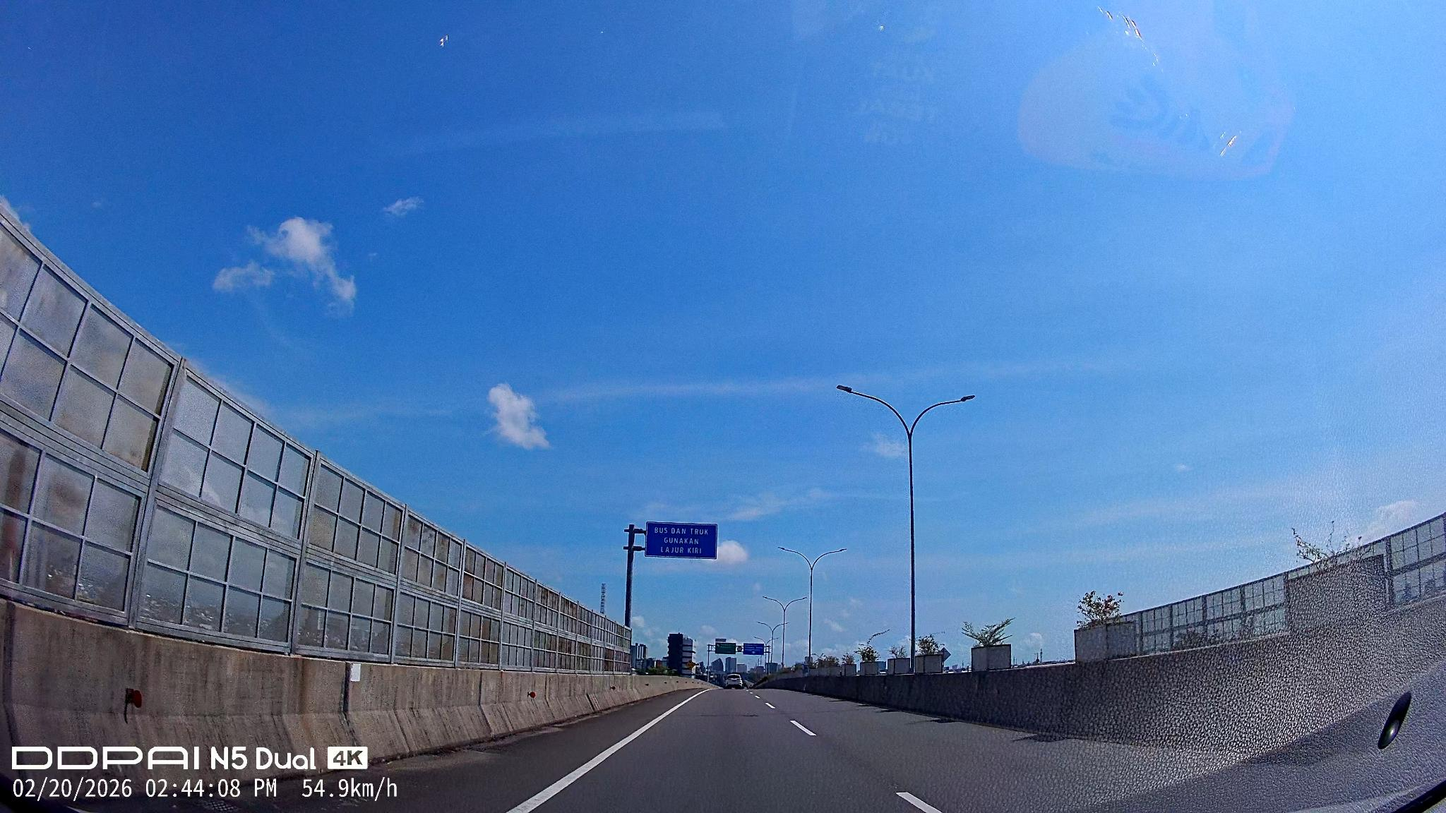rambu_teks: (645, 521, 718, 559)
